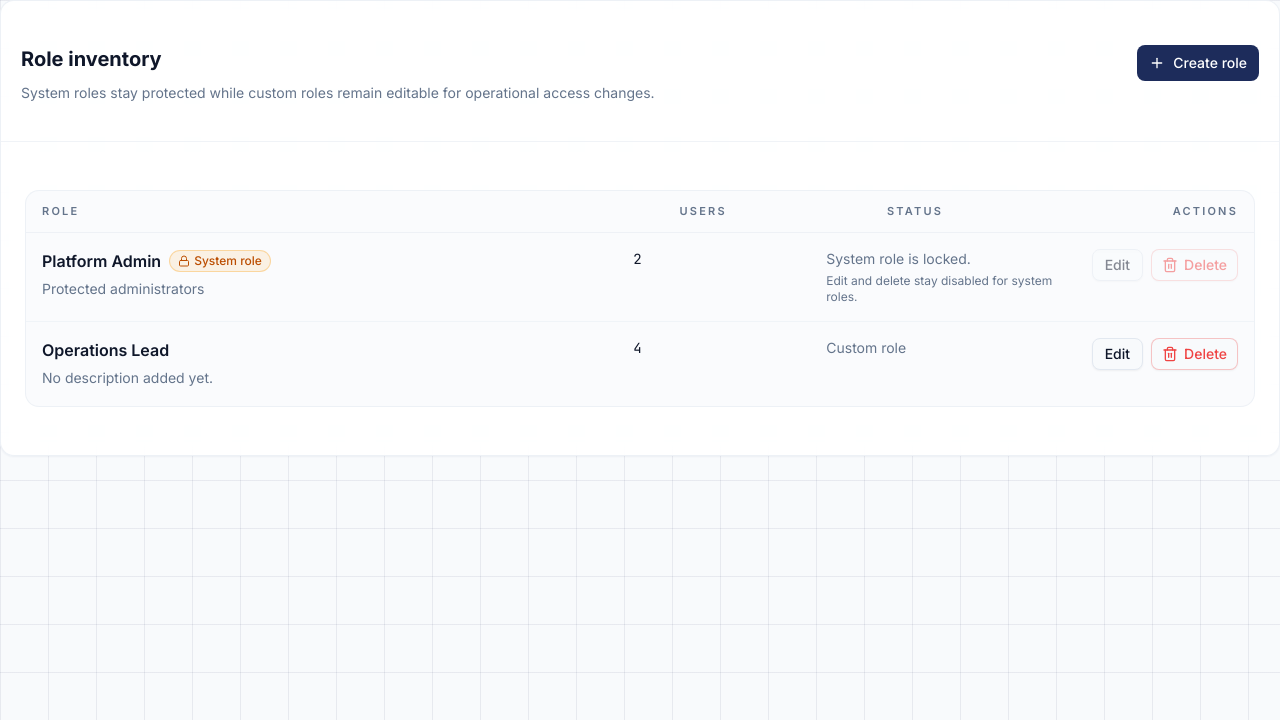
Test: RolesSection › confirms deletes and shows assigned-user conflict feedback inline
Click the button with test id "delete-role-role-custom". click: (1195, 354)
box: [1151,338,1238,370]
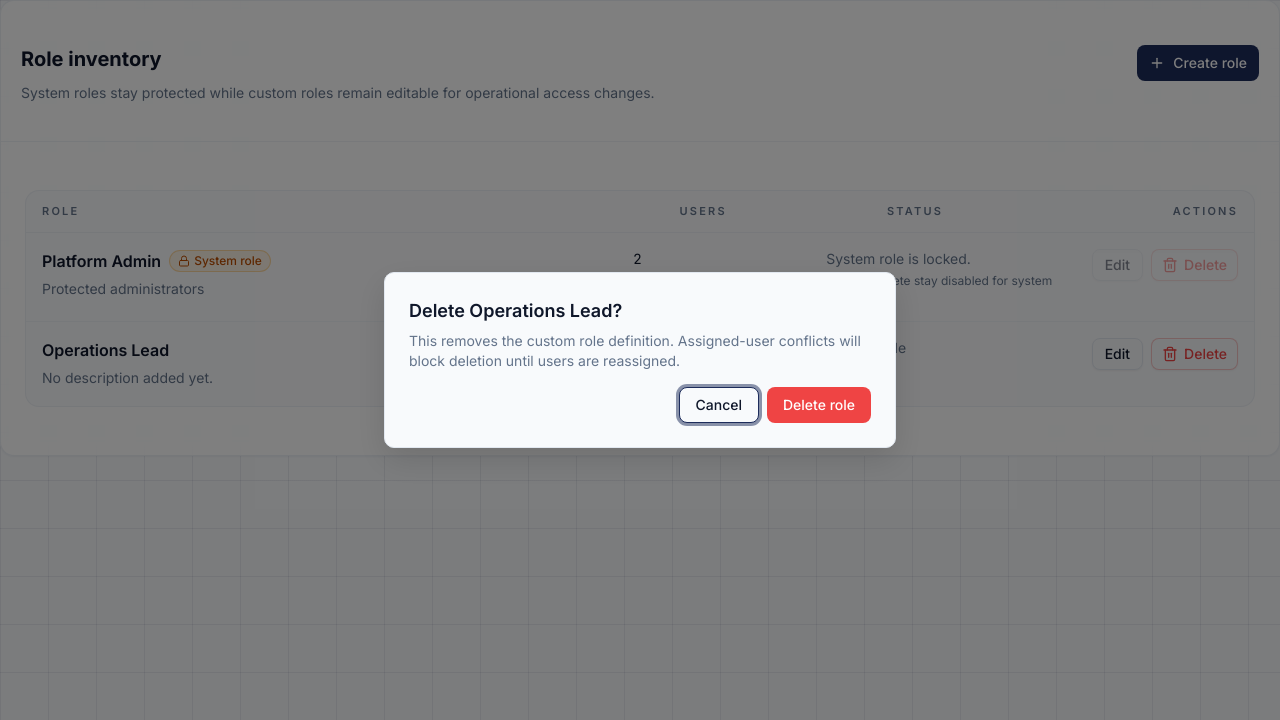
Now the heading "Delete Operations Lead?" is shown, box [409,297,622,325]
Click the button "Delete role". click: (819, 405)
box: [767,387,871,423]
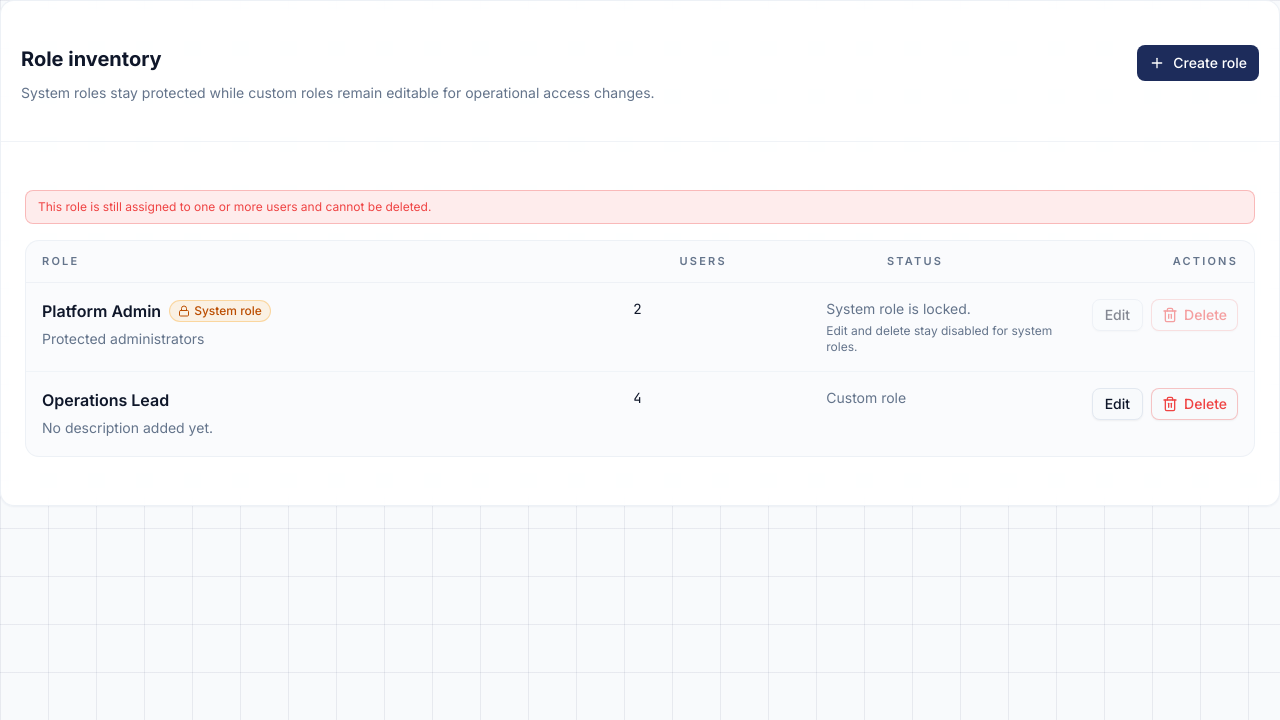
Now the text "This role is still assigned to one or more users and cannot be deleted." is shown, box [38,199,431,215]
